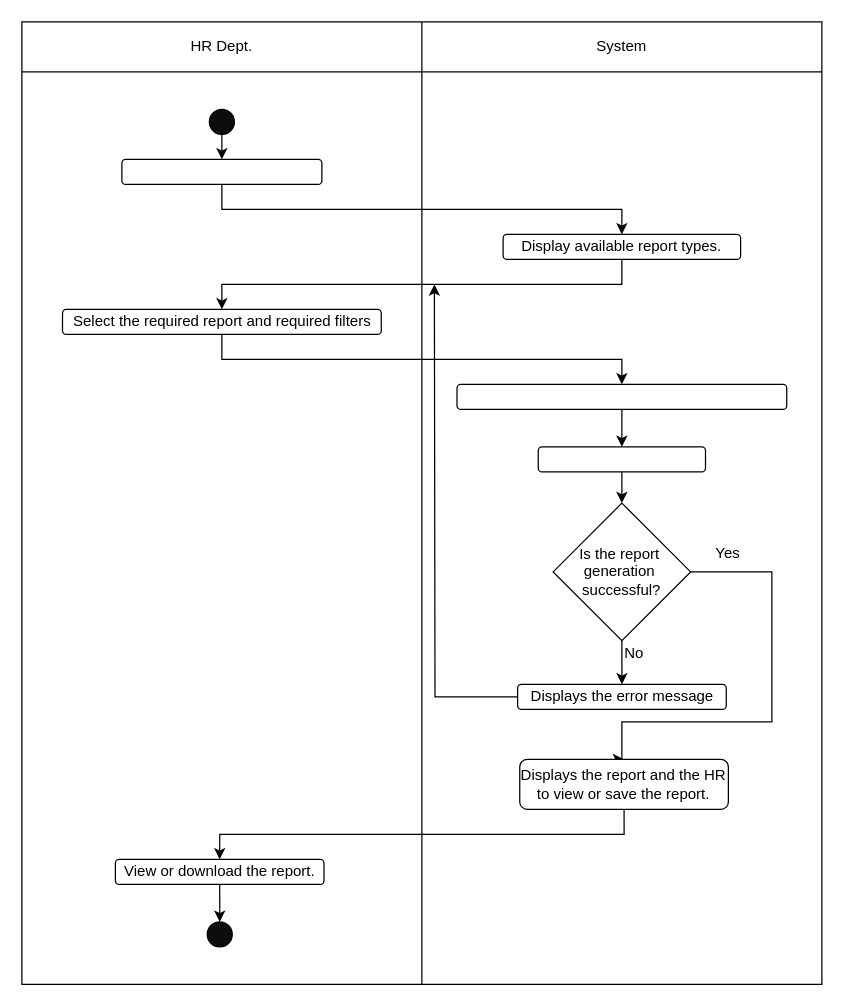
Image size: 844x1006. Some labels were removed from this diagram. Each missing label, with the centre of its shape:
"Generate the report." belongs at (x=621, y=459).
"Process the request and queries the database." belongs at (x=621, y=396).
"Request generate reports." belongs at (x=221, y=171).
